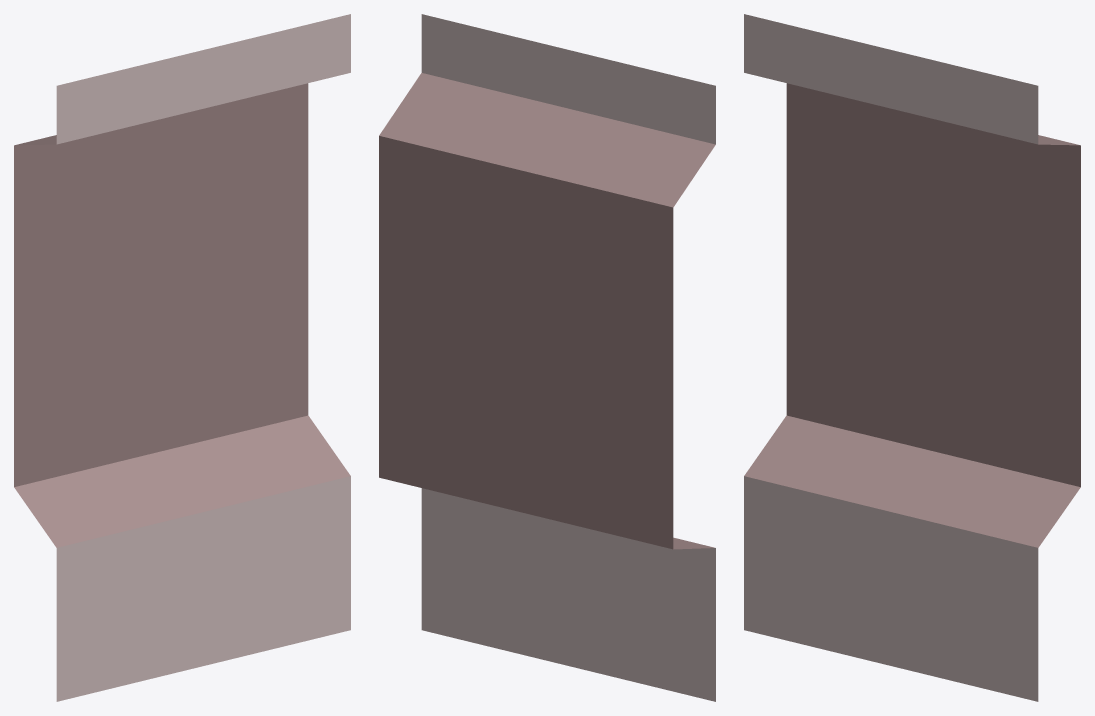
File: castle_window_02_middle.fbx
The picture shows the model from 3 angles, left to right: view 1: azimuth 30°, elevation 25°; view 2: azimuth 150°, elevation 25°; view 3: azimuth 330°, elevation 25°; orthographic projection.
Parts seen in each view (by area): view 1: castle_window_02_middle; view 2: castle_window_02_middle; view 3: castle_window_02_middle.
Boxes of the visible parts, x1,y1,x2,y2 form: castle_window_02_middle: (14,14,350,701); castle_window_02_middle: (379,14,715,701); castle_window_02_middle: (744,14,1080,701).
Size of the model in its own units: 4 by 8 by 1.
